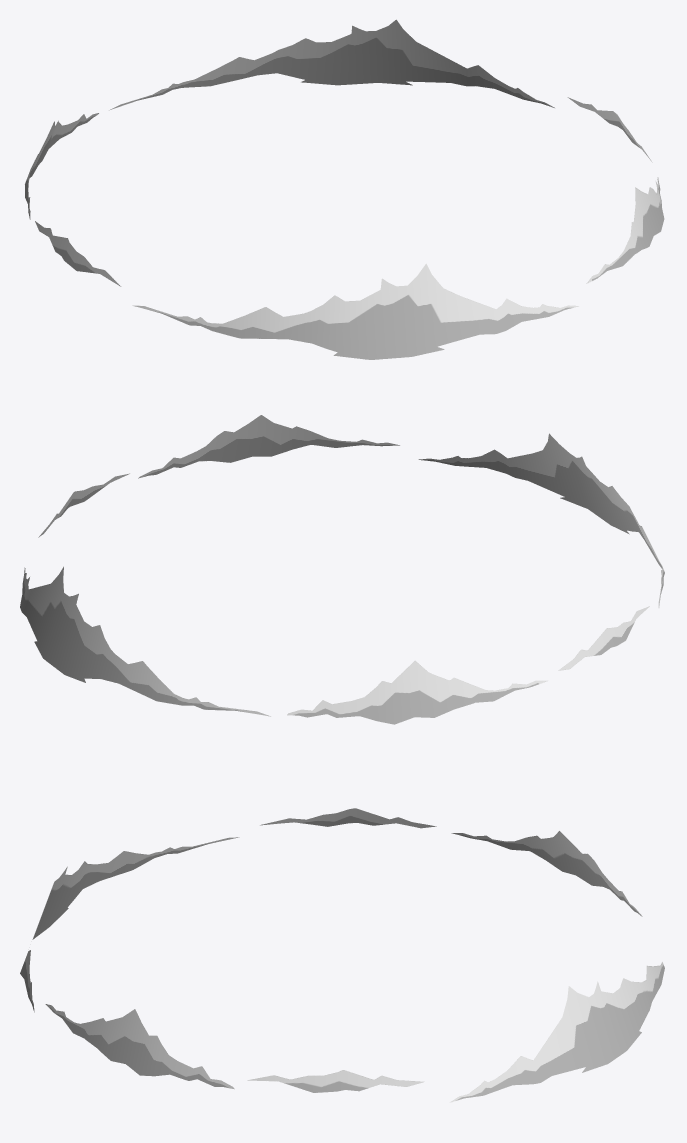
File: clouds.fbx
3 renders of one model, top to bottom at view 1: azimuth 30°, elevation 25°; view 2: azimuth 150°, elevation 25°; view 3: azimuth 270°, elevation 25°, orthographic.
Visible parts, largest first — view 1: Cloud3, Cloud, Cloud5, Cloud2, Cloud1, Cloud4; view 2: Cloud, Cloud3, Cloud1, Cloud5, Cloud2, Cloud4; view 3: Cloud, Cloud5, Cloud3, Cloud1, Cloud4, Cloud2.
Part boxes in pixels (bbox=[...]): Cloud3: bbox=[132, 263, 578, 359]; Cloud: bbox=[109, 19, 554, 110]; Cloud5: bbox=[586, 177, 664, 283]; Cloud2: bbox=[35, 221, 121, 286]; Cloud1: bbox=[25, 113, 98, 219]; Cloud4: bbox=[567, 97, 652, 162]; Cloud: bbox=[20, 566, 270, 716]; Cloud3: bbox=[418, 433, 664, 607]; Cloud1: bbox=[287, 660, 547, 724]; Cloud5: bbox=[138, 415, 399, 478]; Cloud2: bbox=[558, 606, 649, 670]; Cloud4: bbox=[38, 473, 129, 537]; Cloud: bbox=[449, 962, 664, 1102]; Cloud5: bbox=[45, 1004, 234, 1089]; Cloud3: bbox=[20, 837, 239, 1012]; Cloud1: bbox=[451, 831, 642, 916]; Cloud4: bbox=[247, 1070, 424, 1092]; Cloud2: bbox=[260, 808, 436, 828].
Size of the model in its own units: 148 by 21.73 by 148.
1 material, 1 textured.
